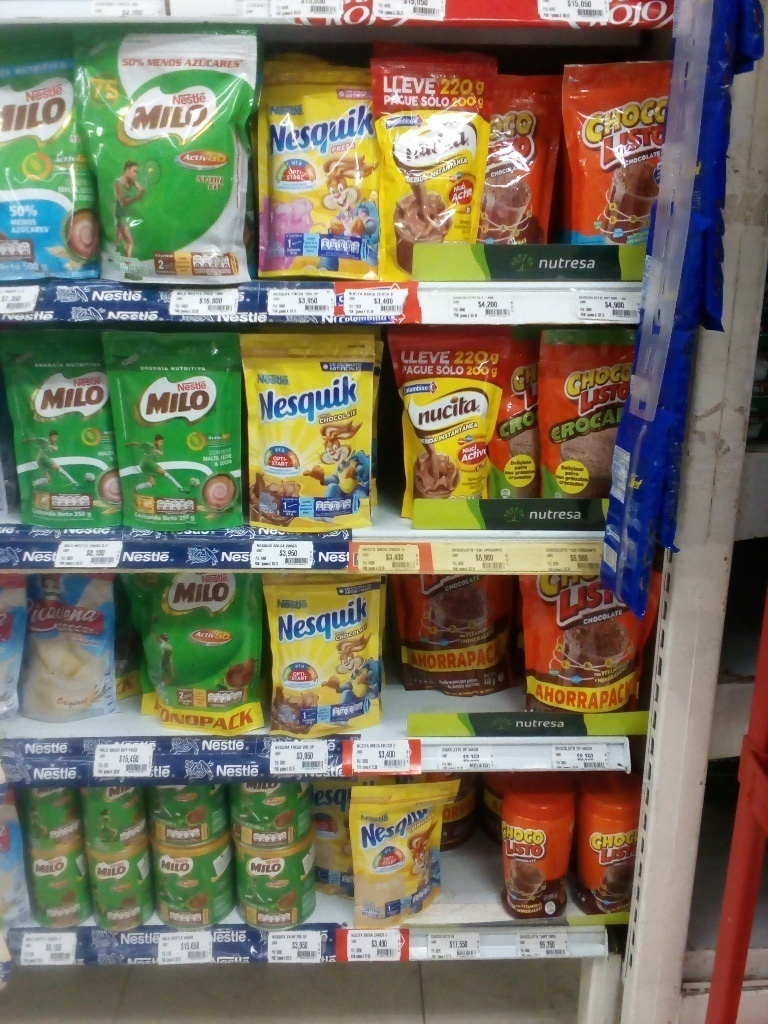COL0170102DYP25000: (541, 325, 645, 507)
COL0170103DYP44000: (522, 567, 658, 719)
COL0170103TRR30000: (495, 773, 579, 922)
COL0170104DYP20000: (567, 60, 671, 248)
COL0170203DYP25000: (101, 326, 249, 529)
COL0170203DYP50000: (128, 570, 262, 735)
COL0170203LAT20000: (23, 775, 79, 848)
COL0170203LAT40000: (152, 777, 226, 846)
COL0170205DYP50000: (3, 26, 103, 283)
COL0170303DYP20000: (245, 336, 383, 531)
COL0170305DYP20000: (261, 55, 385, 281)
COL0170306DYP20000: (347, 789, 451, 918)
